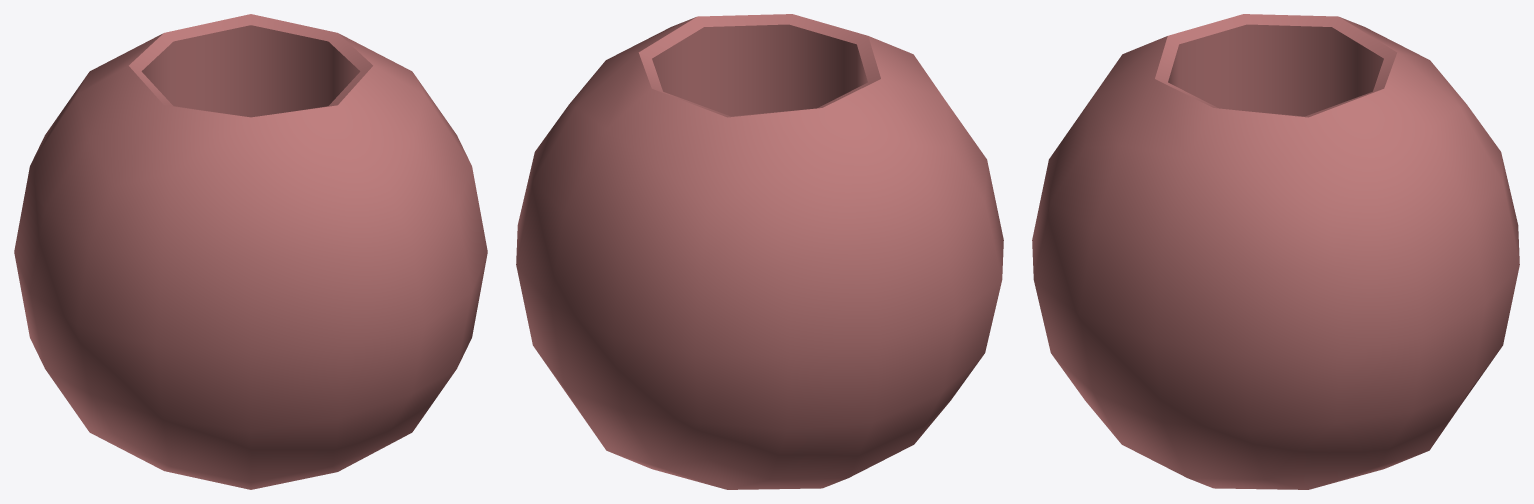
Rendered from Toy_Ball_1.glb.
The picture shows the model from 3 angles, left to right: view 1: azimuth 30°, elevation 25°; view 2: azimuth 150°, elevation 25°; view 3: azimuth 270°, elevation 25°; orthographic projection. The views are drawn at different scales.
Visible parts, largest first — view 1: Toy_Ball_1; view 2: Toy_Ball_1; view 3: Toy_Ball_1.
Boxes of the visible parts, box(x1,y1,x2,y2) form: Toy_Ball_1: box(14, 14, 487, 489); Toy_Ball_1: box(516, 14, 1003, 489); Toy_Ball_1: box(1032, 14, 1519, 489).
Size of the model in its own units: 0.0595 by 0.0512 by 0.0595.
Materials: 1 (1 with a texture image).
